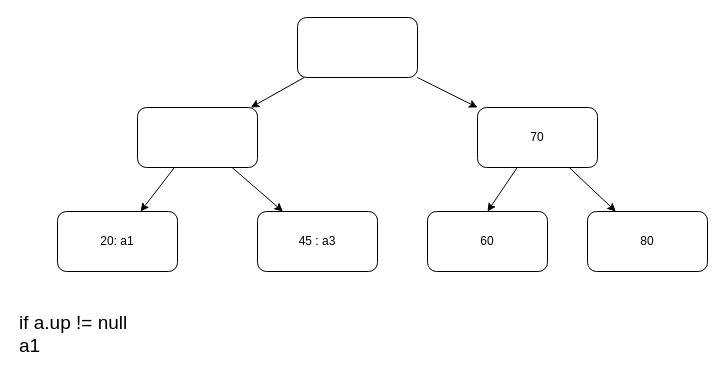
This 725x375 diagram has some shape labels left out. The shapes that lost their labels are listed below. From the top down, each one's box as (x1, y1, x2, y2) in pixels, then its label:
(296, 16, 418, 78): 50 : a4
(136, 106, 258, 168): 40 : a2
